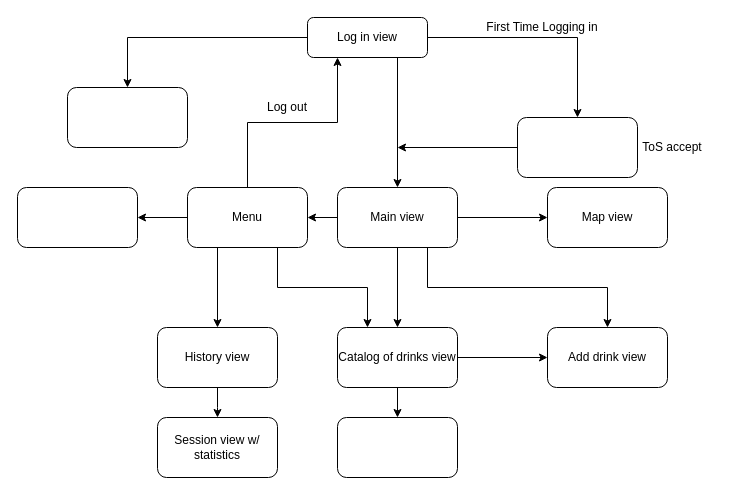
The diagram is 735 pixels wide and 495 high, and some of its shapes have lost their labels. Each missing label, with the centre of its shape:
"Create account view" goes at [127,117].
"Settings view" goes at [77,217].
"Specific drink info view" goes at [397,447].
"Write information" goes at [577,147].
